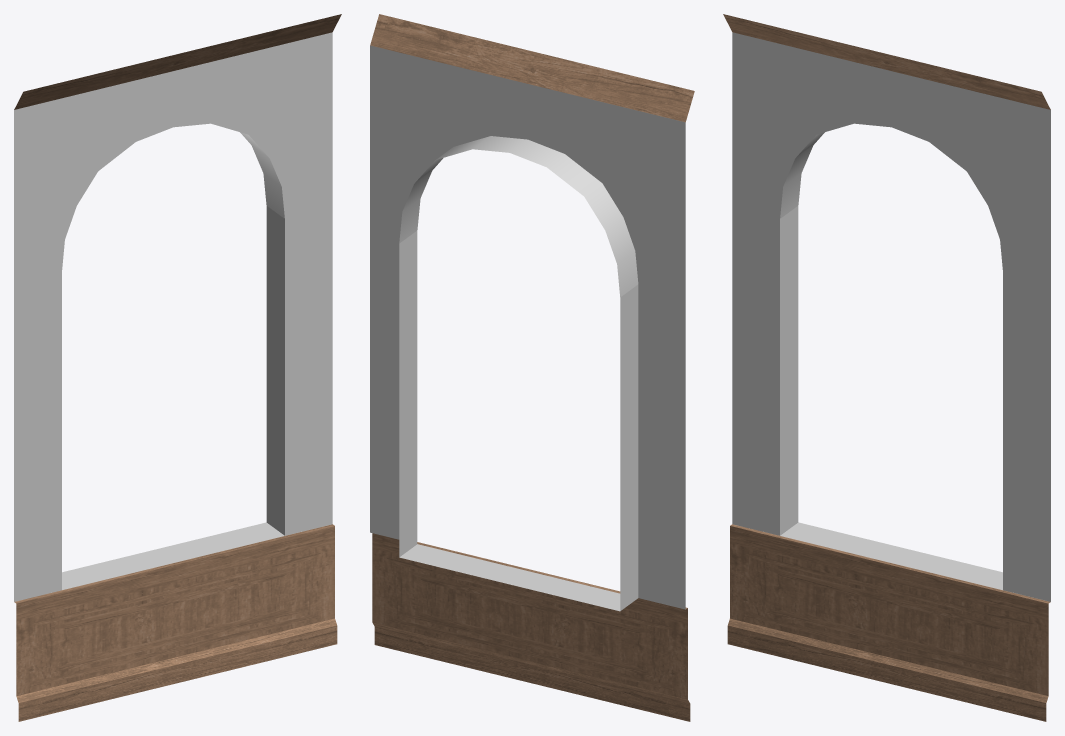
The model's file is WallInt1Window1RoundedA.fbx.
The picture shows the model from 3 angles, left to right: view 1: azimuth 30°, elevation 25°; view 2: azimuth 150°, elevation 25°; view 3: azimuth 330°, elevation 25°; orthographic projection.
Visible parts, largest first — view 1: WallInt1Window1RoundedA; view 2: WallInt1Window1RoundedA; view 3: WallInt1Window1RoundedA.
Boxes of the visible parts, x1,y1,x2,y2 form: WallInt1Window1RoundedA: (14, 14, 341, 721); WallInt1Window1RoundedA: (370, 14, 694, 721); WallInt1Window1RoundedA: (723, 14, 1050, 721).
Bounding box in the file's own units: 200 × 380 × 30.
